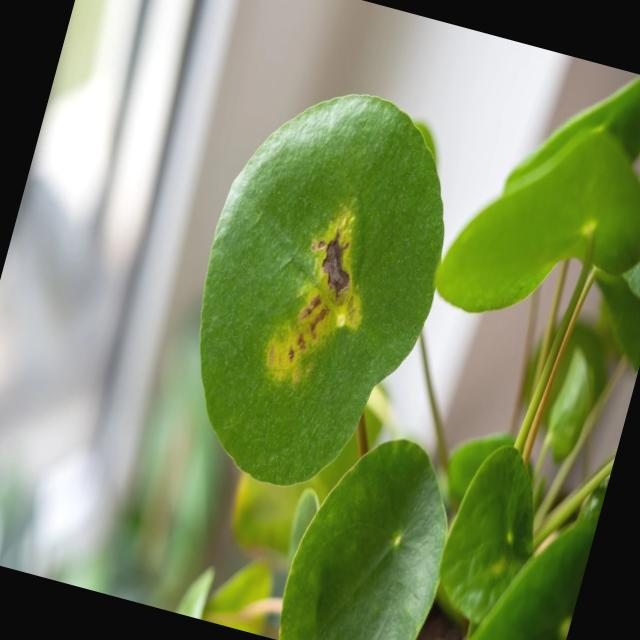leaf_spot: (200, 95, 444, 485)
